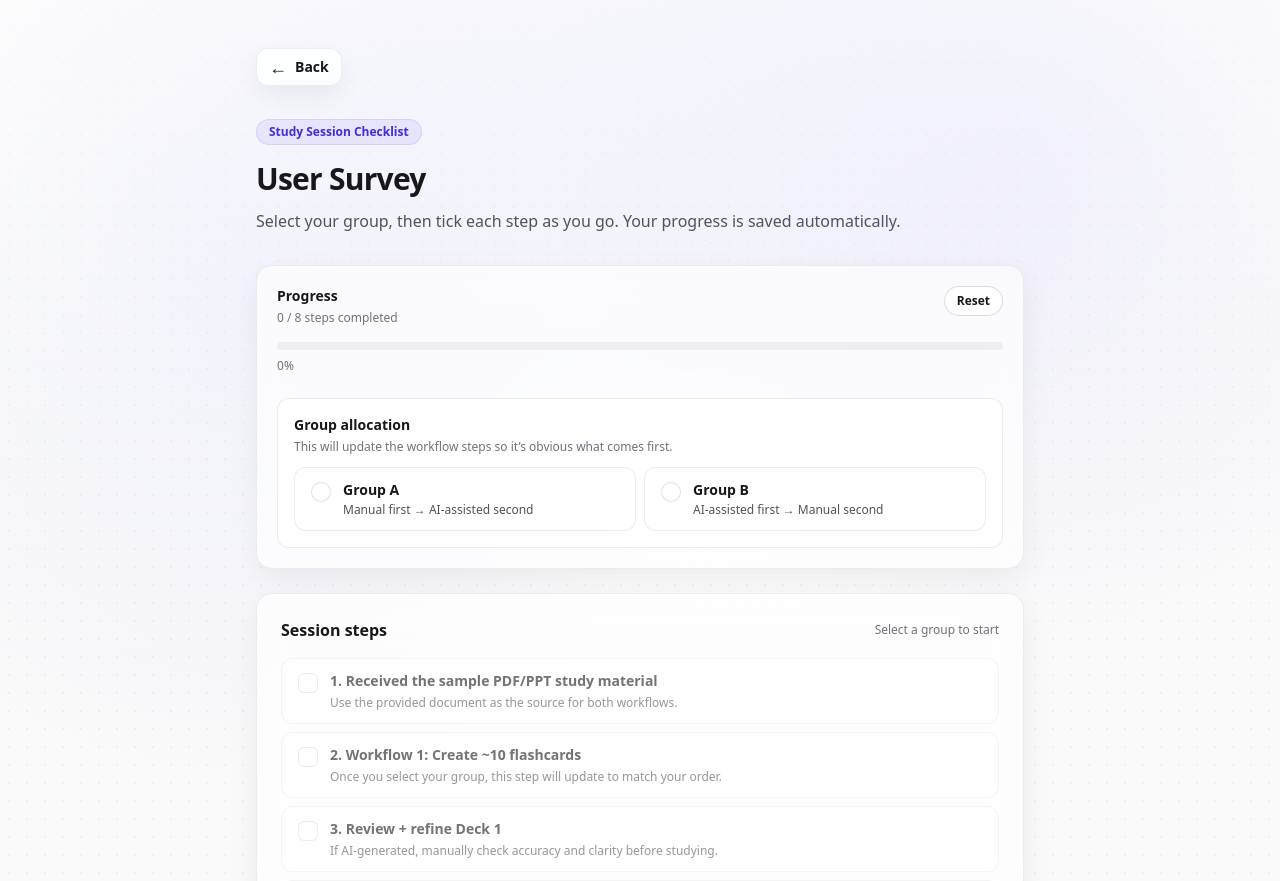
Survey checklist page › reset clears group + progress and disables interaction again
The image size is (1280, 881).
Click the button "Group B AI-assisted first → Manual second" at point(815, 499), box left=644, top=467, right=986, bottom=531
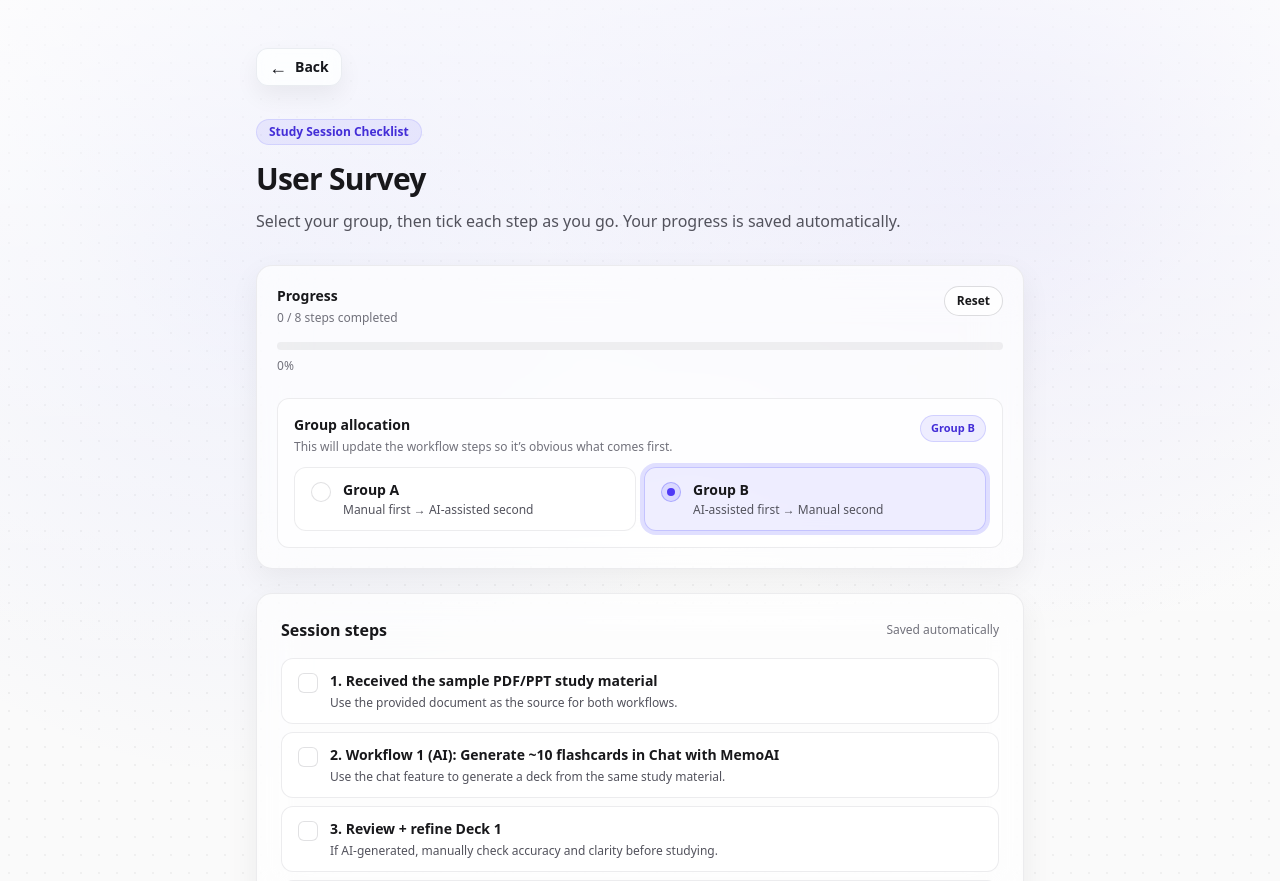
Click the 5th button at point(640, 691), box left=281, top=658, right=999, bottom=724
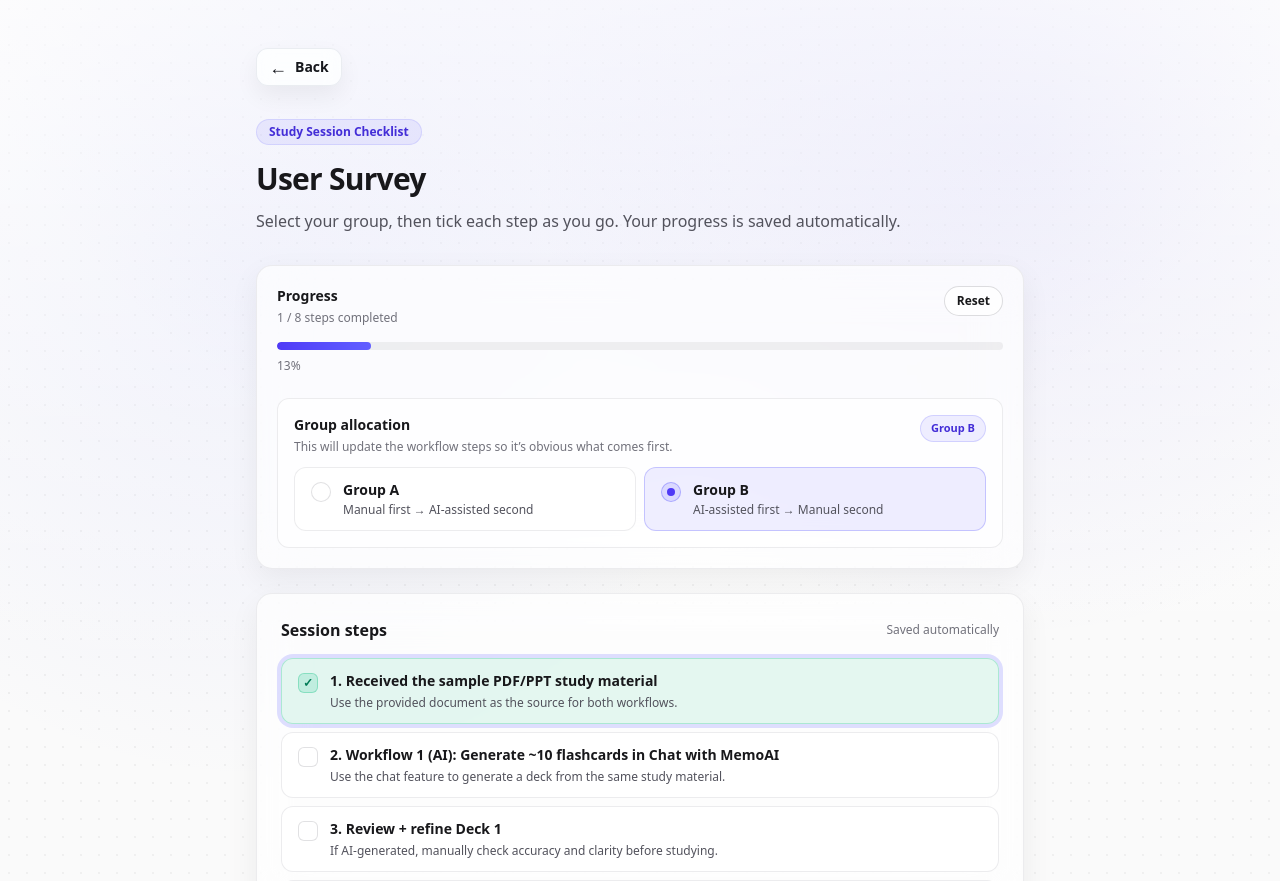
Now the text "1 / 8 steps completed" is shown, box left=277, top=310, right=398, bottom=326
Click the button "Reset" at point(973, 301), box left=944, top=286, right=1003, bottom=316
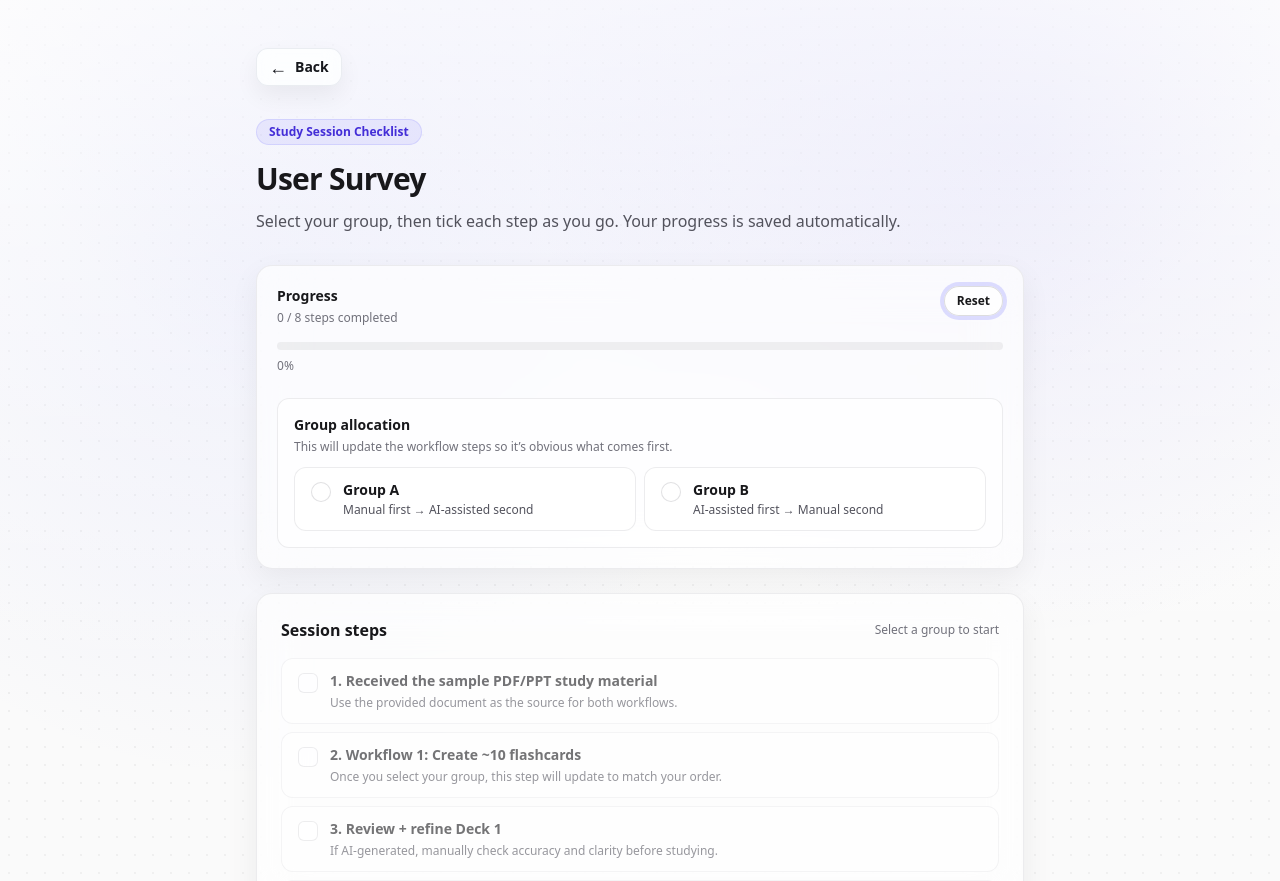
Now the text "0 / 8 steps completed" is shown, box left=277, top=310, right=398, bottom=326
Now the 5th button is disabled, box left=281, top=658, right=999, bottom=724
